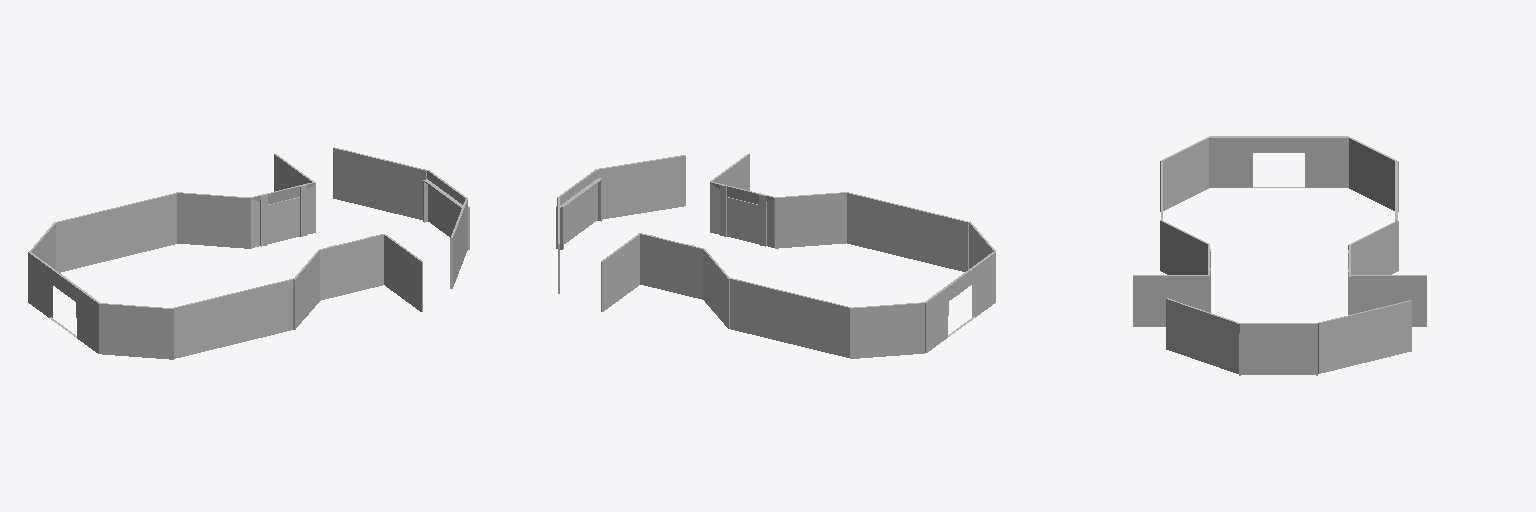
The model's file is Shop1.obj.
The picture shows the model from 3 angles: view 1: azimuth 30°, elevation 25°; view 2: azimuth 150°, elevation 25°; view 3: azimuth 270°, elevation 25°; orthographic projection.
Visible parts, largest first — view 1: pCube31; view 2: pCube31; view 3: pCube31.
Part boxes in pixels (x1,y1,x2,y2): pCube31: (28,147,469,359); pCube31: (556,154,995,358); pCube31: (1133,136,1426,375).
Bounding box in the file's own units: 45.85 × 5.77 × 30.26.